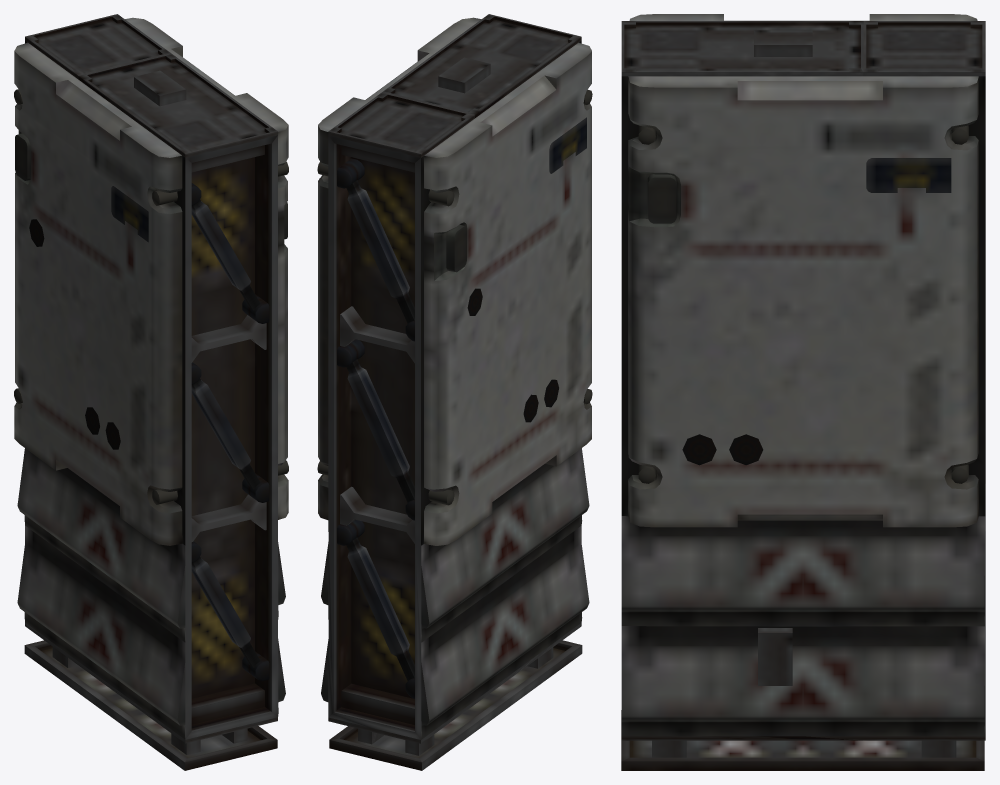
Rendered from Server.FBX.
The picture shows the model from 3 angles, left to right: view 1: azimuth 30°, elevation 25°; view 2: azimuth 150°, elevation 25°; view 3: azimuth 270°, elevation 25°; orthographic projection. The views are drawn at different scales.
Parts seen in each view (by area): view 1: Server; view 2: Server; view 3: Server.
Part boxes in pixels (x1,y1,x2,y2): Server: (14, 14, 288, 770); Server: (317, 14, 592, 770); Server: (621, 14, 985, 770).
Bounding box in the file's own units: 74.75 × 322 × 150.
